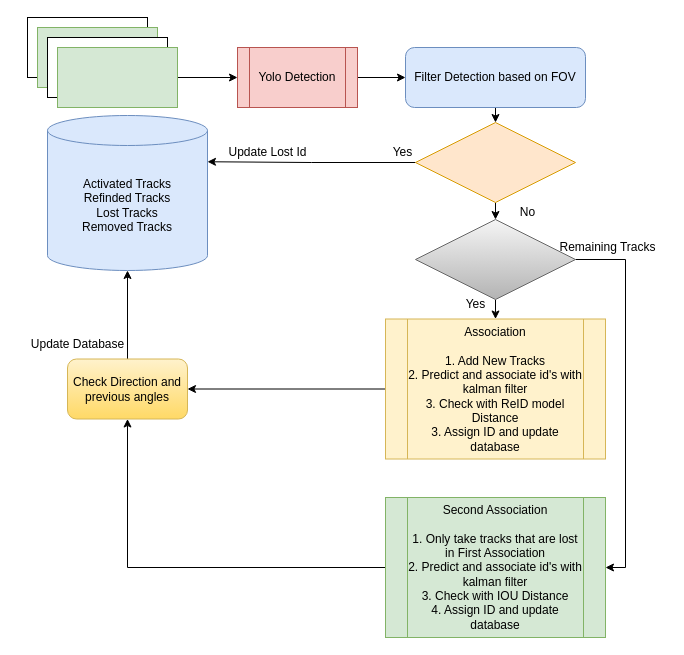
Some shapes in this 684 by 655 pixel diagram are drawn without their labels. Here are the shapes that lost their labels. From the top down, the centre of each, then its label:
[117,77]: Input Frames
[495,162]: is Detection < Low Thr ?
[495,259]: is Detection > High Thr ?
